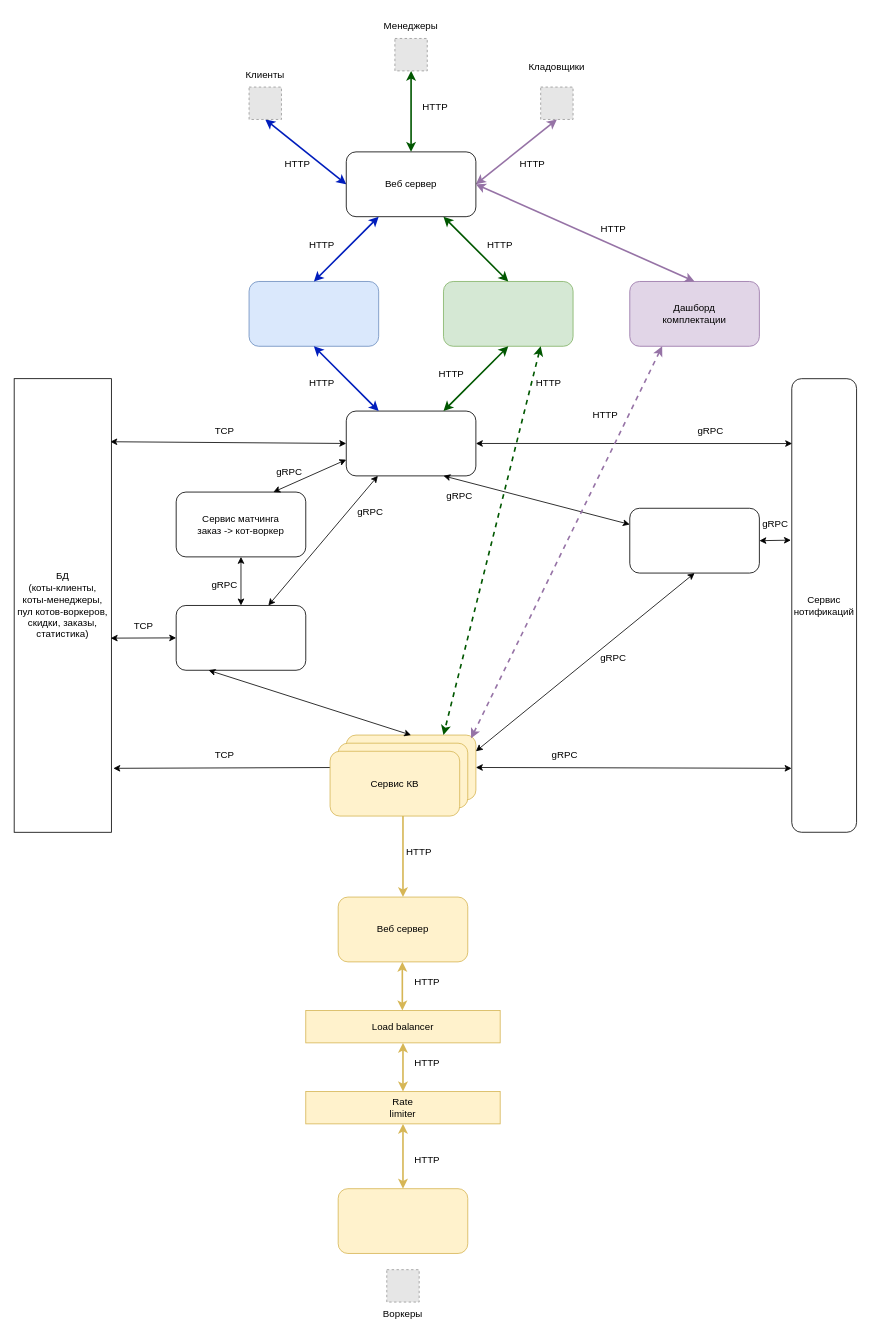
Some shapes in this 871 by 1340 pixel diagram are drawn without their labels. Grey dashed boxes stand in for pictures. The centre of each missing label's shape, as x and y in pixels:
"Дашборд котов-клиентов" belongs at point 313,313.
"Личный кабинет котов-воркеров (мобильное приложение)" belongs at point 402,1220.
"Панель управления котов-менеджеров" belongs at point 508,313.
"Сервис оплаты" belongs at point 694,540.
"Сервис статистики" belongs at point 240,637.
"Сервис управления заказами" belongs at point 410,443.
